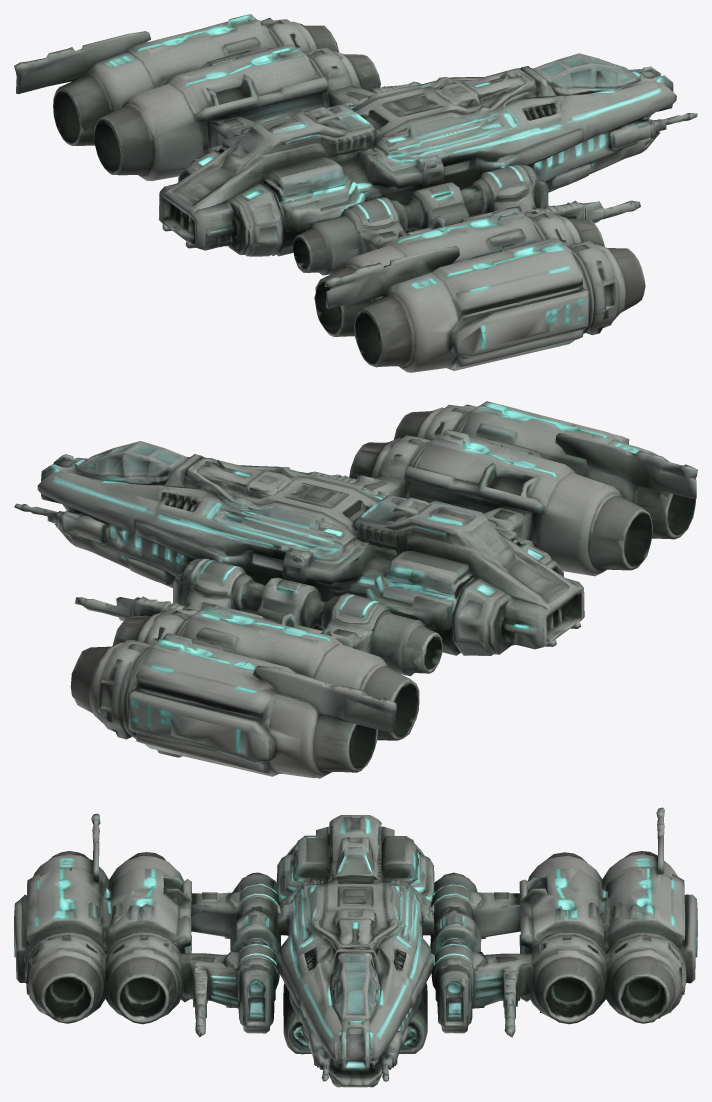
File: Nave11.glb
3 views of the same model, one above another, from view 1: azimuth 30°, elevation 25°; view 2: azimuth 150°, elevation 25°; view 3: azimuth 270°, elevation 25° (orthographic). The views are drawn at different scales.
Parts seen in each view (by area): view 1: tripo_part_0, tripo_part_7, tripo_part_2, tripo_part_5, tripo_part_3, tripo_part_1, tripo_part_6, tripo_part_8, tripo_part_12, tripo_part_13, tripo_part_11, tripo_part_9 (+1 smaller); view 2: tripo_part_0, tripo_part_3, tripo_part_1, tripo_part_5, tripo_part_7, tripo_part_2, tripo_part_4, tripo_part_9, tripo_part_12, tripo_part_15, tripo_part_10, tripo_part_8 (+1 smaller); view 3: tripo_part_0, tripo_part_3, tripo_part_7, tripo_part_1, tripo_part_2, tripo_part_4, tripo_part_6, tripo_part_12, tripo_part_5, tripo_part_8, tripo_part_9, tripo_part_15 (+4 smaller).
Part boxes in pixels (box(x1,y1,x2,y2)): tripo_part_0: box(162, 68, 676, 256); tripo_part_7: box(324, 238, 645, 372); tripo_part_2: box(94, 44, 380, 180); tripo_part_5: box(158, 104, 379, 256); tripo_part_3: box(14, 14, 339, 145); tripo_part_1: box(314, 207, 604, 336); tripo_part_6: box(403, 164, 640, 232); tripo_part_8: box(293, 197, 407, 275); tripo_part_12: box(520, 53, 673, 111); tripo_part_13: box(263, 156, 345, 202); tripo_part_11: box(611, 113, 697, 151); tripo_part_9: box(190, 114, 254, 164); tripo_part_0: box(37, 456, 573, 655); tripo_part_3: box(70, 633, 396, 778); tripo_part_1: box(349, 429, 652, 576); tripo_part_5: box(351, 495, 584, 655); tripo_part_7: box(394, 401, 697, 539); tripo_part_2: box(112, 605, 419, 740); tripo_part_4: box(74, 558, 325, 629); tripo_part_9: box(318, 592, 442, 676); tripo_part_12: box(41, 441, 201, 503); tripo_part_15: box(387, 551, 473, 600); tripo_part_10: box(14, 503, 107, 544); tripo_part_8: box(483, 505, 551, 559); tripo_part_0: box(276, 853, 434, 1087); tripo_part_3: box(602, 807, 697, 1023); tripo_part_7: box(14, 813, 109, 1023); tripo_part_1: box(100, 852, 191, 1024); tripo_part_2: box(510, 852, 610, 1024); tripo_part_4: box(430, 910, 534, 1037); tripo_part_6: box(169, 910, 280, 1037); tripo_part_12: box(330, 949, 381, 1070); tripo_part_5: box(287, 815, 423, 882); tripo_part_8: box(191, 872, 280, 938); tripo_part_9: box(430, 872, 520, 938); tripo_part_15: box(381, 837, 419, 880).
Bounding box in the file's own units: 0.7948 × 0.2227 × 0.9805.
Materials: 1 (1 with a texture image).
